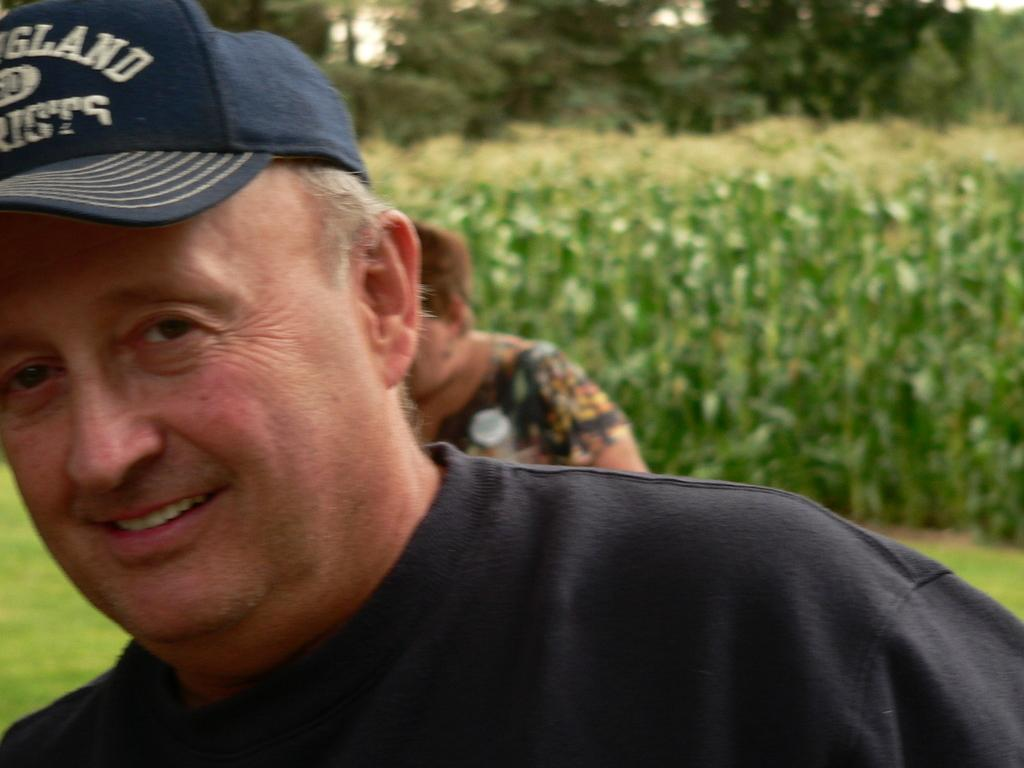Hat: (0, 0, 373, 231)
